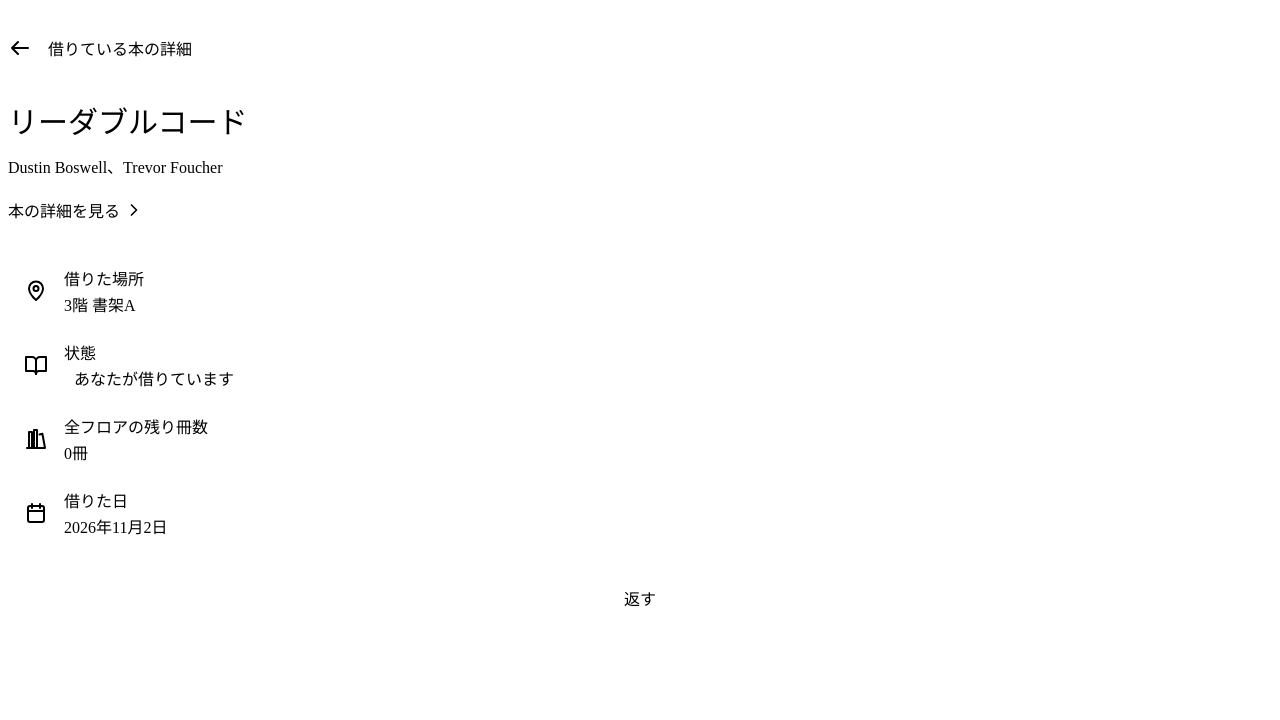
Scenario: LoanDetail › BS-15: 本を返し、完了ダイアログの「OK」を押すと、返却の応答の冊数（1冊）に表示が変わる
Check: the text "全フロアの残り冊数" is shown, box left=64, top=414, right=208, bottom=438
Click the button "返す" at (640, 598), box left=8, top=574, right=1272, bottom=622
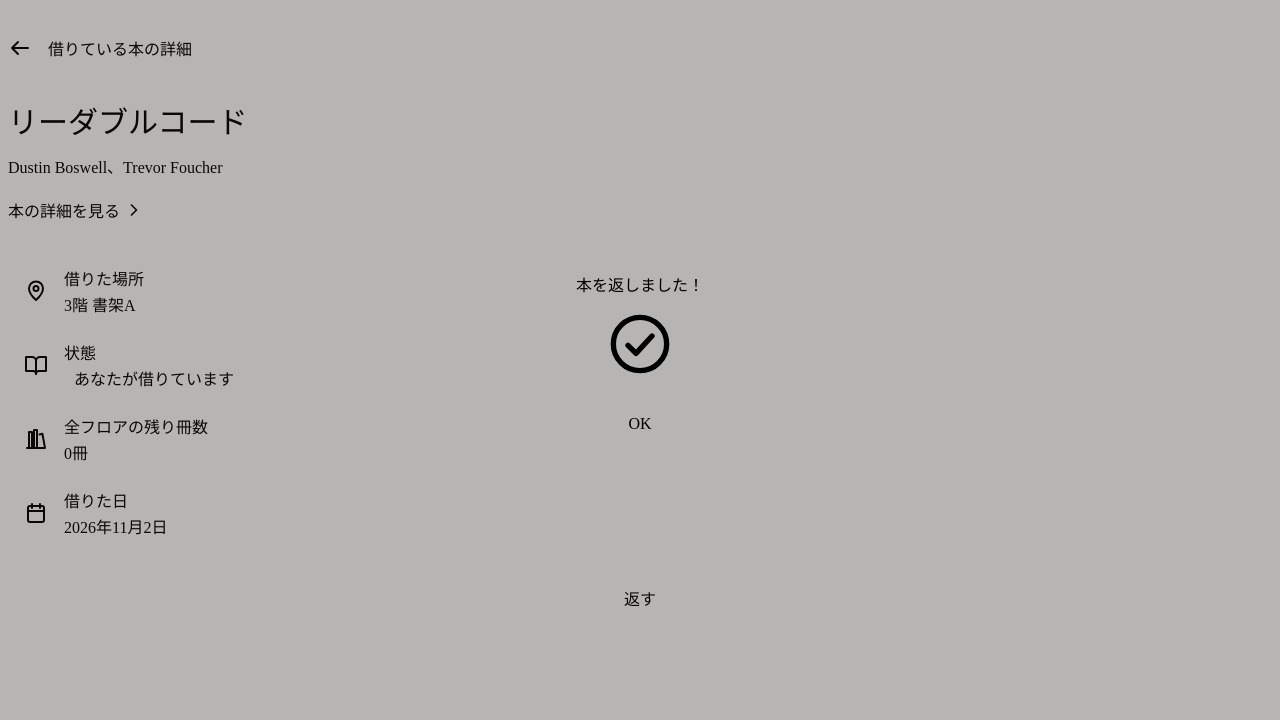
Check: the text "本を返しました！" is shown, box left=576, top=277, right=704, bottom=294
Click the button "OK" at (640, 424), box left=508, top=400, right=772, bottom=448
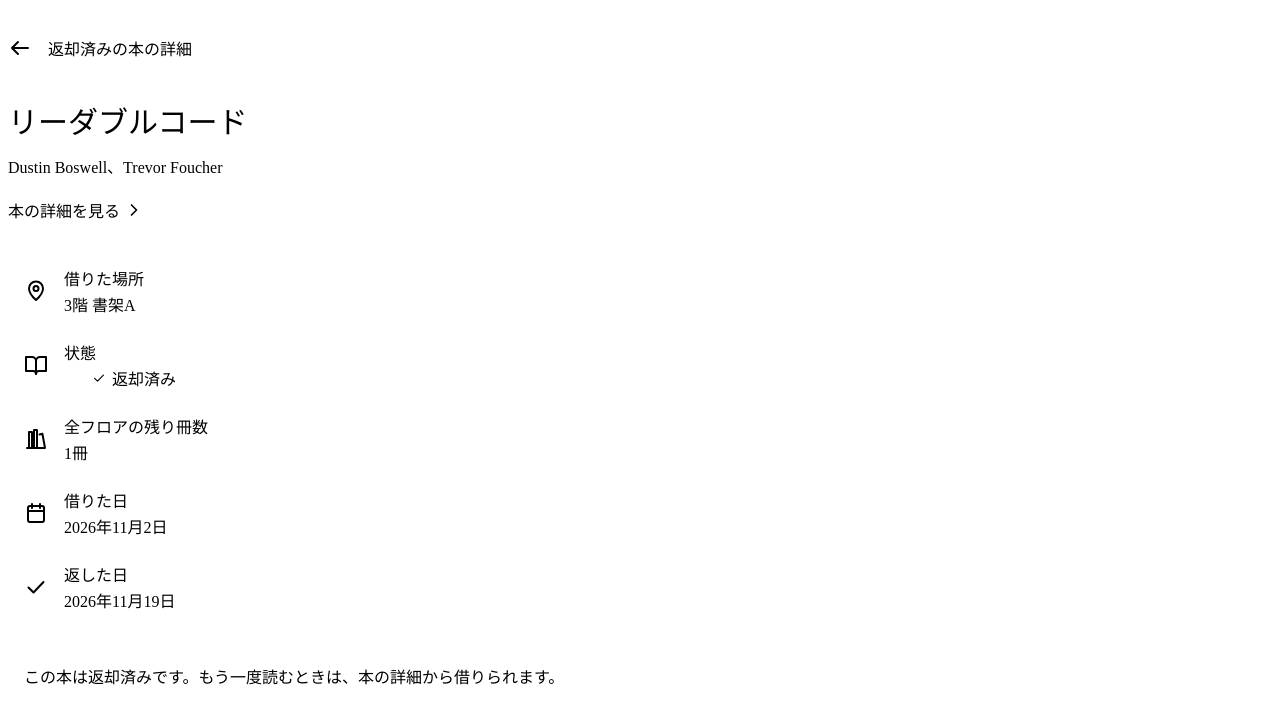
Check: the text "返した日" is shown, box left=64, top=567, right=128, bottom=584
